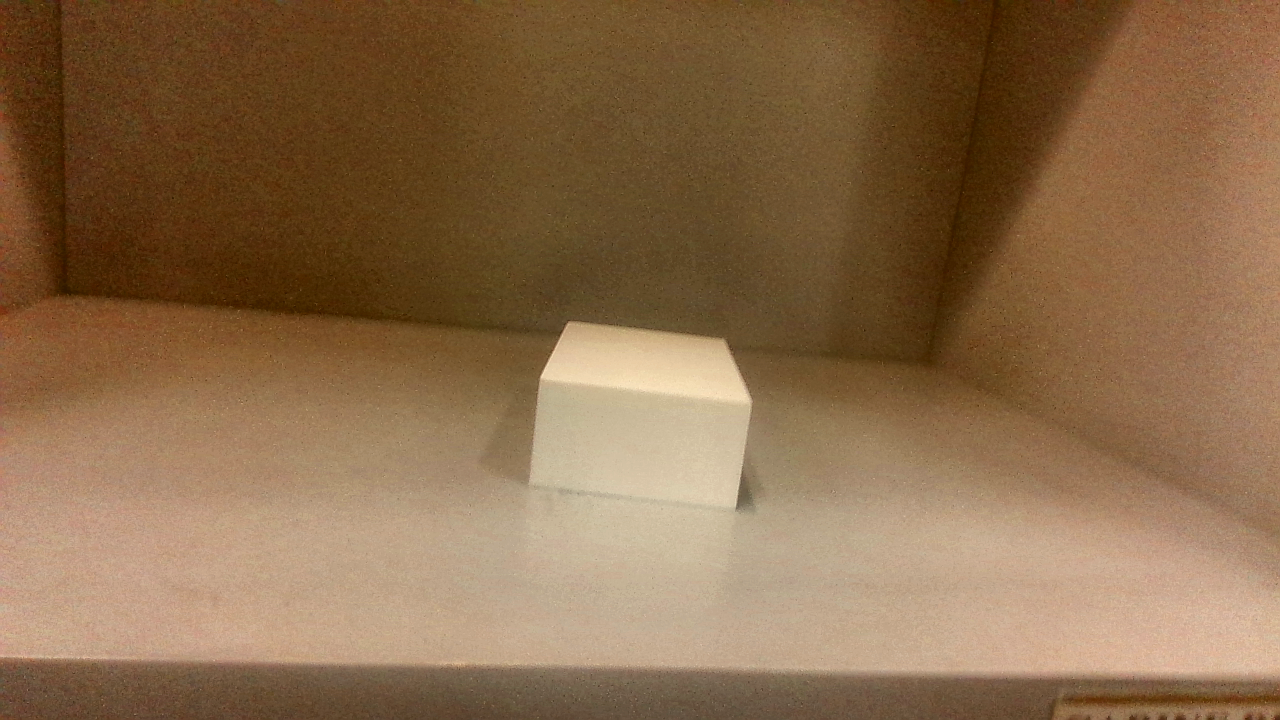Retangulo: (530, 321, 751, 506)
